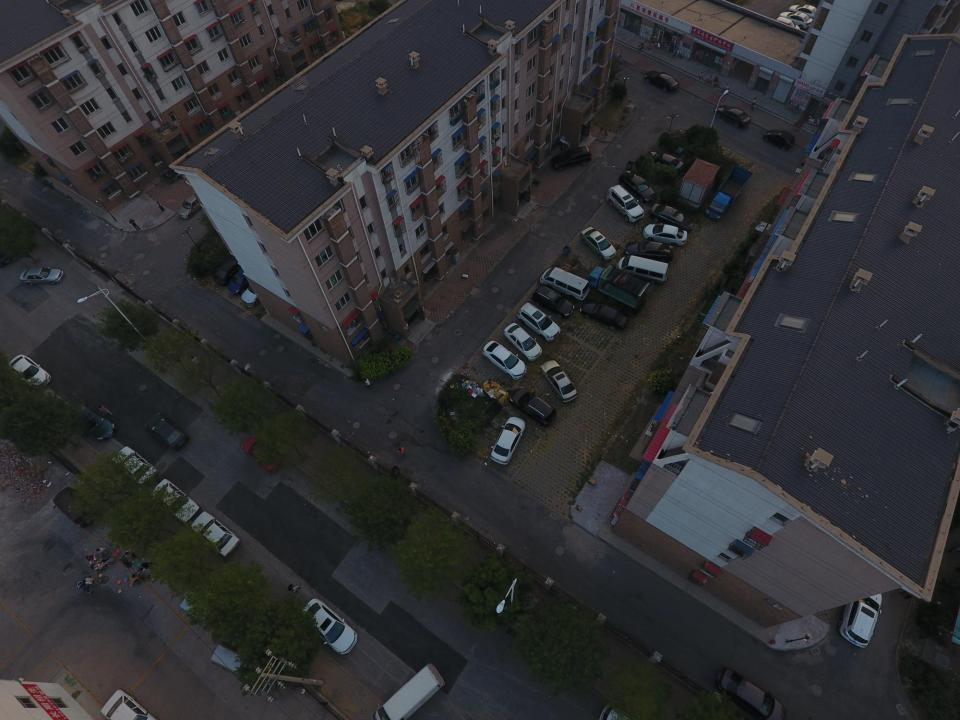car: (299, 597, 358, 655), (840, 582, 886, 648), (188, 510, 241, 558), (149, 478, 201, 523), (509, 386, 557, 428), (111, 445, 158, 486), (99, 689, 161, 720), (70, 401, 118, 441), (52, 486, 95, 528), (490, 416, 526, 466), (482, 340, 527, 380), (518, 302, 561, 342), (145, 412, 189, 450), (502, 322, 543, 362), (241, 434, 283, 473), (539, 360, 578, 402), (8, 354, 51, 389), (579, 300, 629, 330), (530, 285, 575, 318), (606, 184, 644, 223), (649, 203, 694, 232), (580, 226, 617, 261), (618, 170, 657, 203), (241, 274, 275, 307), (624, 240, 674, 262), (550, 146, 592, 172), (643, 222, 688, 246), (643, 150, 684, 175), (228, 262, 258, 295), (212, 255, 244, 285), (714, 104, 752, 128), (177, 191, 207, 219), (19, 266, 64, 284), (644, 70, 679, 92), (763, 129, 795, 150), (778, 11, 812, 30), (775, 16, 801, 36), (788, 4, 822, 19)
truck: (588, 264, 650, 310), (704, 164, 753, 221)
van: (372, 663, 444, 719), (539, 267, 589, 300), (616, 254, 669, 284)
